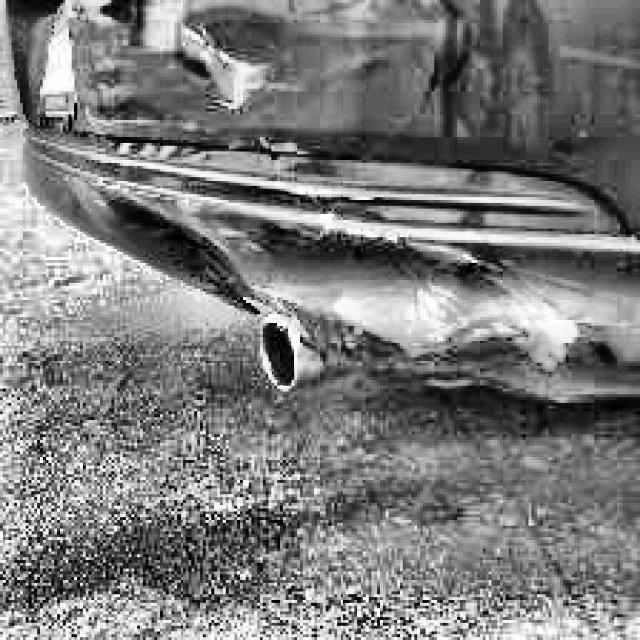bumper_dent: (196, 203, 574, 369)
